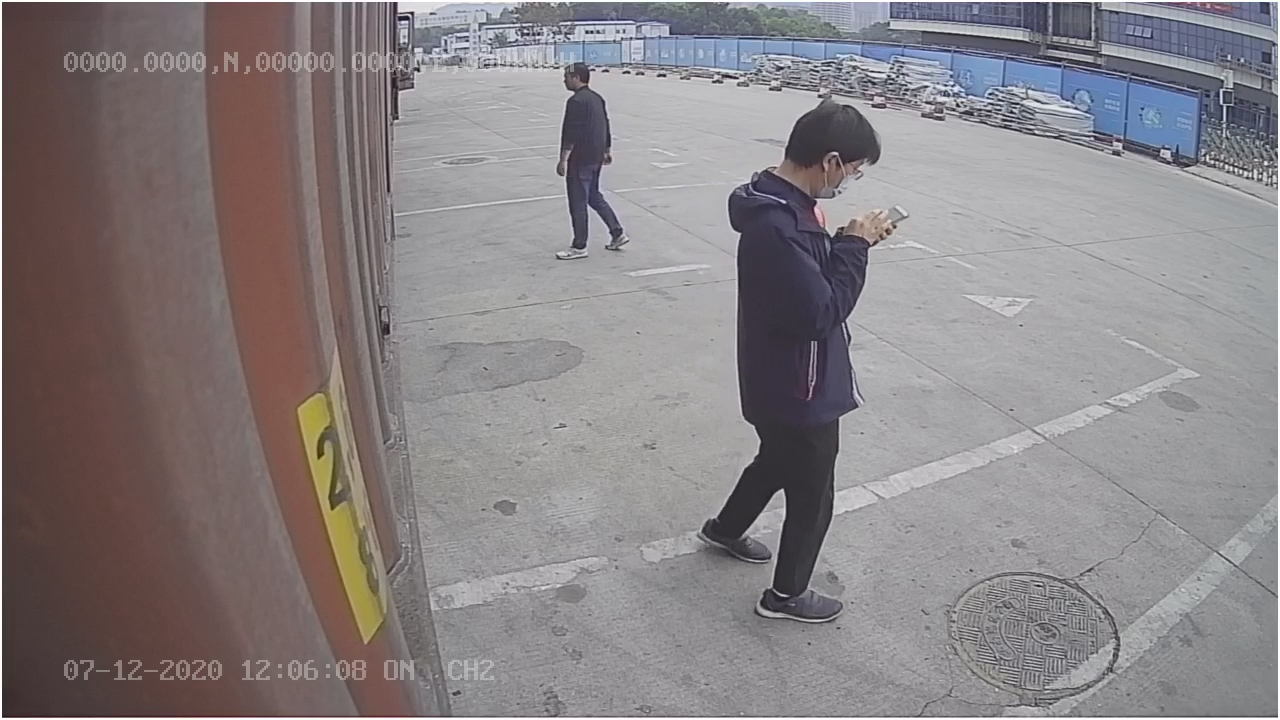person: (700, 90, 898, 623)
